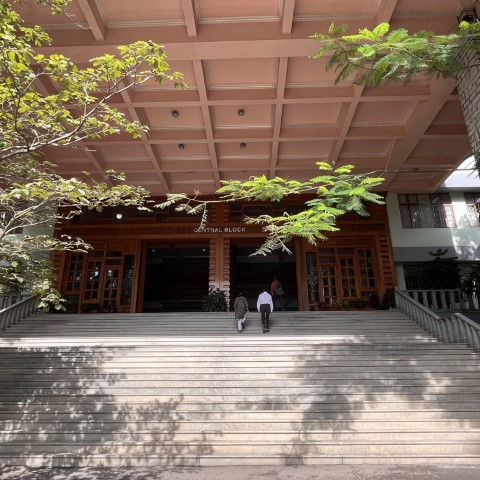Central Block: (39, 2, 480, 480)
